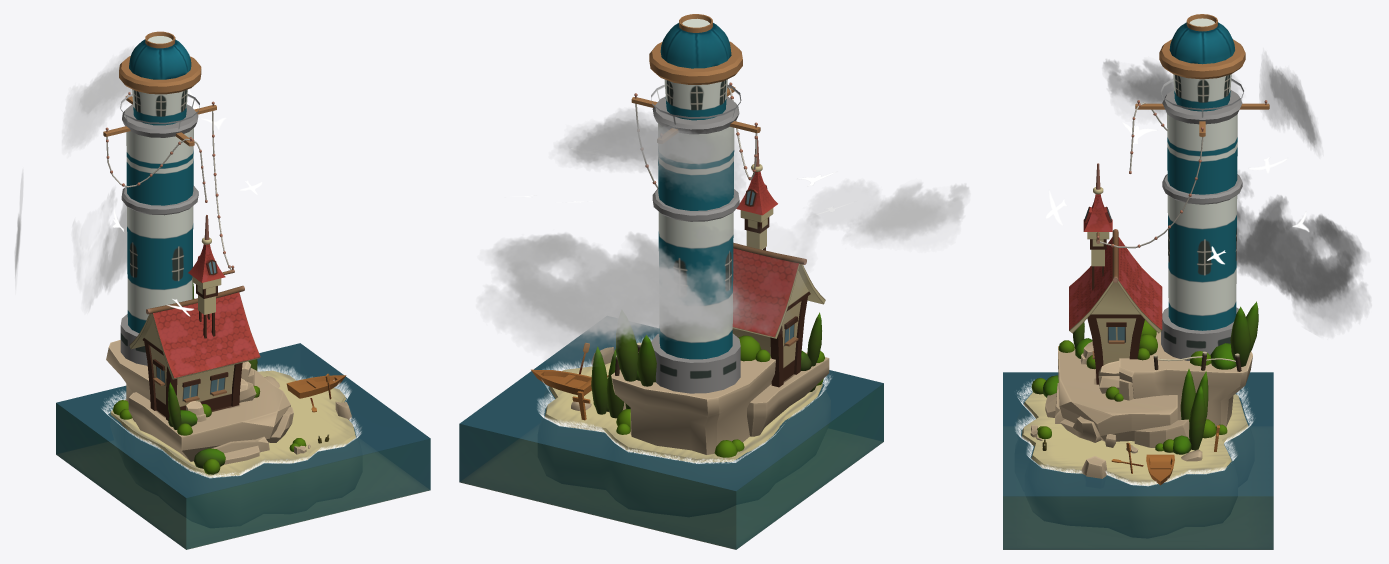
The model's file is lighthouse_diorama.glb.
3 renders of one model, left to right at view 1: azimuth 30°, elevation 25°; view 2: azimuth 150°, elevation 25°; view 3: azimuth 270°, elevation 25°, orthographic. The views are drawn at different scales.
Parts seen in each view (by area): view 1: pCube1_low, polySurface1_low, pCylinder1_low, pCube9_low, pCube4_low, pPlane2, pPlane4, pCube6_low, pSphere1_low, polySurface2_low, pCylinder11_low, pCylinder13_low (+8 smaller); view 2: pCube1_low, pPlane4, pCylinder1_low, polySurface1_low, pPlane2, pCube5_low, pPlane3, pCube9_low1, pCylinder9_low, pSphere1_low, pCube4_low, pCylinder11_low (+11 smaller); view 3: pCube1_low, pCylinder1_low, polySurface1_low, pPlane4, pCube4_low, pCube5_low, pPlane2, pPlane3, pCube9_low1, pSphere1_low, pCube9_low, pCylinder9_low (+20 smaller).
Part boxes in pixels (<box>): pCube1_low: <box>56,343,430,549</box>; polySurface1_low: <box>110,370,361,527</box>; pCylinder1_low: <box>126,128,193,333</box>; pCube9_low: <box>152,292,260,379</box>; pCube4_low: <box>128,368,290,461</box>; pPlane2: <box>62,47,133,149</box>; pPlane4: <box>73,188,127,309</box>; pCube6_low: <box>150,346,234,416</box>; pSphere1_low: <box>129,39,191,79</box>; polySurface2_low: <box>101,364,361,478</box>; pCylinder11_low: <box>132,89,187,125</box>; pCylinder13_low: <box>119,56,201,94</box>; pCube1_low: <box>459,324,883,549</box>; pPlane4: <box>479,215,816,365</box>; pCylinder1_low: <box>658,123,734,359</box>; polySurface1_low: <box>538,362,822,516</box>; pPlane2: <box>557,109,745,199</box>; pCube5_low: <box>611,356,775,454</box>; pPlane3: <box>808,181,969,244</box>; pCube9_low1: <box>732,248,799,338</box>; pCylinder9_low: <box>651,333,740,393</box>; pSphere1_low: <box>660,23,731,68</box>; pCube4_low: <box>747,352,829,436</box>; pCylinder11_low: <box>664,79,727,120</box>; pCube1_low: <box>1003,372,1273,549</box>; pCylinder1_low: <box>1167,113,1237,330</box>; polySurface1_low: <box>1022,392,1248,537</box>; pPlane4: <box>1236,171,1369,333</box>; pCube4_low: <box>1058,346,1177,441</box>; pCube5_low: <box>1119,332,1252,426</box>; pPlane2: <box>1259,53,1320,153</box>; pPlane3: <box>1103,59,1240,116</box>; pCube9_low1: <box>1117,237,1162,333</box>; pSphere1_low: <box>1169,22,1234,64</box>; pCube9_low: <box>1069,237,1113,333</box>; pCylinder9_low: <box>1161,307,1238,360</box>.
Bounding box in the file's own units: 0.189 × 0.2071 × 0.1582.
Materials: 2 (2 with a texture image).
